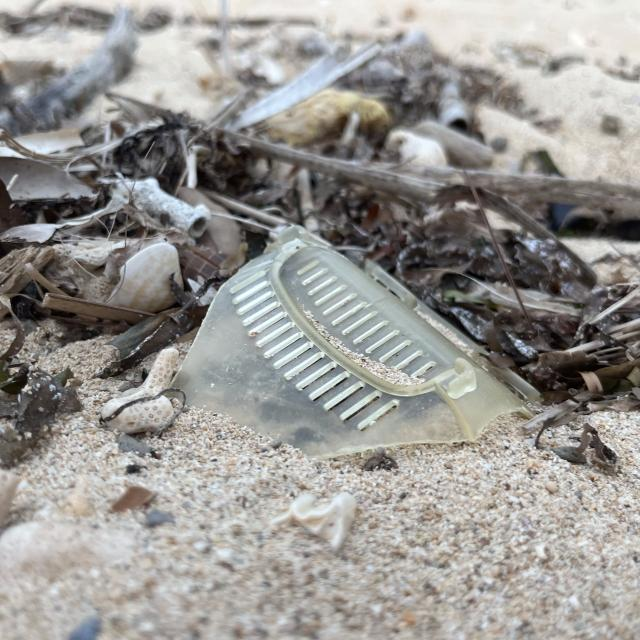coral: (109, 348, 179, 433)
shell: (79, 236, 196, 316)
trash: (147, 208, 547, 461)
